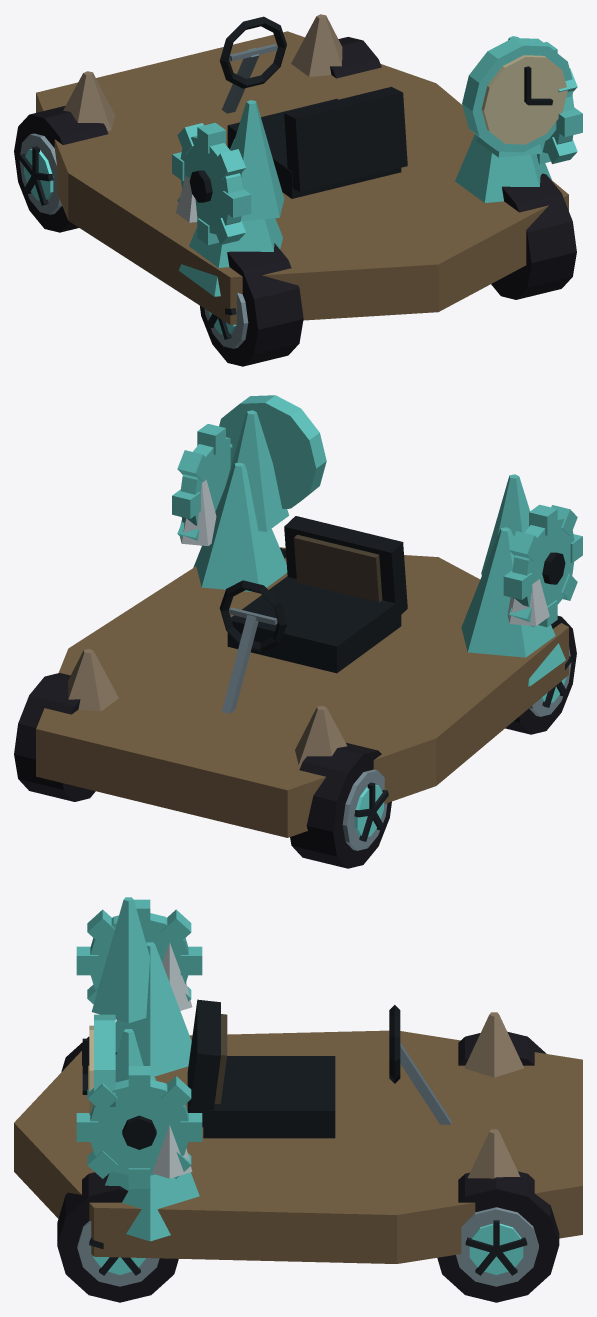
File: kart.glb
The picture shows the model from 3 angles, top to bottom: view 1: azimuth 30°, elevation 25°; view 2: azimuth 150°, elevation 25°; view 3: azimuth 270°, elevation 25°; orthographic projection. The views are drawn at different scales.
Visible parts, largest first — view 1: identity-crystal-crystal-faceted-platform, identity-crystal-driver-cockpit, identity-crystal-motif-clock, identity-crystal-motif-gears, wheel-rear-left, wheel-rear-right, wheel-front-left, identity-crystal-motif-crystals, wheel-front-right; view 2: identity-crystal-crystal-faceted-platform, identity-crystal-driver-cockpit, identity-crystal-motif-gears, wheel-front-left, identity-crystal-motif-crystals, identity-crystal-motif-clock, wheel-front-right, wheel-rear-left; view 3: identity-crystal-crystal-faceted-platform, identity-crystal-driver-cockpit, identity-crystal-motif-gears, wheel-front-right, identity-crystal-motif-crystals, wheel-rear-right, identity-crystal-motif-clock, wheel-front-left.
Boxes of the visible parts, x1,y1,x2,y2 form: identity-crystal-crystal-faceted-platform: [36, 14, 568, 324]; identity-crystal-driver-cockpit: [219, 16, 407, 198]; identity-crystal-motif-clock: [462, 38, 573, 152]; identity-crystal-motif-gears: [172, 42, 582, 245]; wheel-rear-left: [200, 243, 303, 366]; wheel-rear-right: [491, 173, 576, 299]; wheel-front-left: [14, 105, 108, 232]; identity-crystal-motif-crystals: [176, 36, 545, 222]; wheel-front-right: [330, 37, 381, 78]; identity-crystal-crystal-faceted-platform: [36, 462, 568, 837]; identity-crystal-driver-cockpit: [219, 516, 407, 713]; identity-crystal-motif-gears: [172, 424, 582, 627]; wheel-front-left: [290, 742, 391, 868]; identity-crystal-motif-crystals: [180, 410, 549, 626]; identity-crystal-motif-clock: [219, 395, 326, 508]; wheel-front-right: [14, 673, 95, 801]; wheel-rear-left: [505, 616, 576, 734]; identity-crystal-crystal-faceted-platform: [14, 942, 582, 1263]; identity-crystal-driver-cockpit: [187, 999, 451, 1138]; identity-crystal-motif-gears: [76, 899, 202, 1188]; wheel-front-right: [437, 1171, 559, 1302]; identity-crystal-motif-crystals: [91, 897, 192, 1178]; wheel-rear-right: [57, 1172, 178, 1302]; identity-crystal-motif-clock: [82, 1014, 115, 1114]; wheel-front-left: [458, 1031, 546, 1065].
Size of the model in its own units: 2.03 by 1.35 by 2.63.
